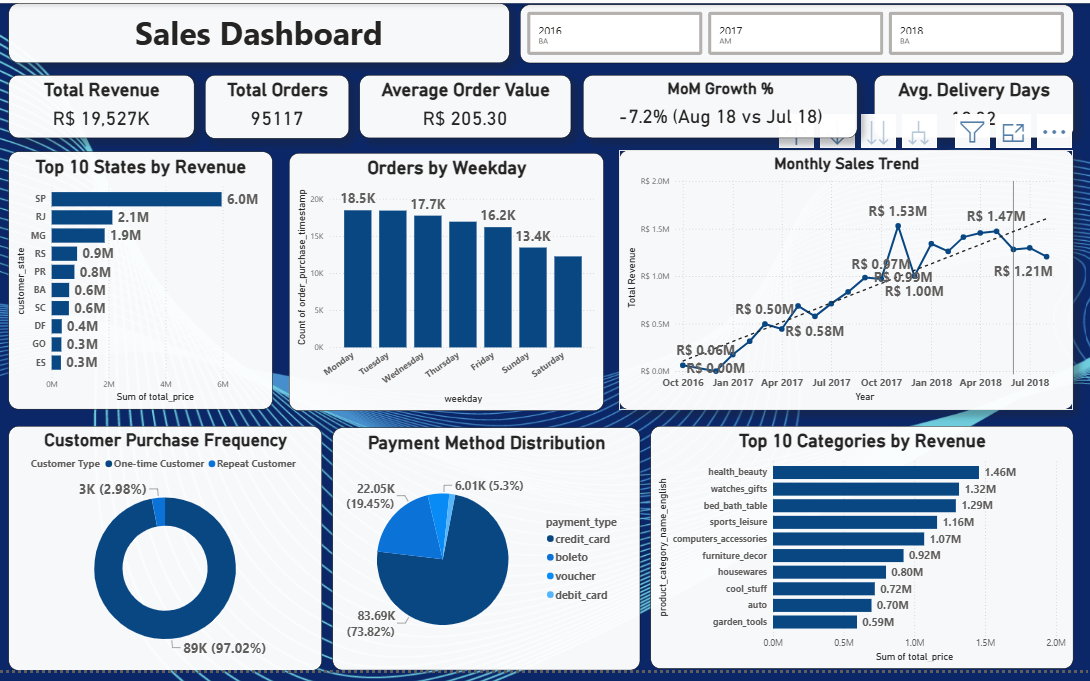

What the dashboard file says about the page in this screenshot:
{"tool":"powerbi","page":{"name":"Page 1","canvas":[1650,1000],"ordinal":0},"visuals":[{"type":"clusteredBarChart","title":"Top 10 Categories by Revenue","fields":{"Category":["Sheet1.product_category_name_english"],"Y":["Sum(Sheet1.total_price)"]},"box":[987.3,634.2,634.2,364.3],"z":0},{"type":"clusteredColumnChart","title":"Orders by Weekday","fields":{"Category":["Sheet1.weekday"],"Y":["CountNonNull(Sheet1.order_purchase_timestamp)"]},"box":[445.3,224.9,472.3,386.8],"z":1000},{"type":"textbox","box":[24.7,0,751.1,90],"z":2000},{"type":"card","title":"Total Revenue","fields":{"Values":["Sheet1.Total Revenue"]},"box":[24.7,107.9,278.9,94.5],"z":3000},{"type":"card","title":"Avg. Delivery Days","fields":{"Values":["Sheet1.Avg Delivery"]},"box":[1322.4,107.9,299.1,94.5],"z":4000},{"type":"card","title":"Total Orders","fields":{"Values":["Count(Sheet1.order_id)"]},"box":[319.3,107.9,216.2,95.3],"z":5000},{"type":"clusteredBarChart","title":"Top 10 States by Revenue","fields":{"Category":["Sheet1.customer_state"],"Y":["Sum(Sheet1.total_price)"]},"box":[24.7,222.6,395.8,386.8],"z":6000},{"type":"pieChart","title":"Payment Method Distribution","fields":{"Category":["Sheet1.payment_type"],"Y":["CountNonNull(Sheet1.payment_type)"]},"box":[510.5,636.4,461,364.3],"z":7000},{"type":"card","title":"Average Order Value","fields":{"Values":["Sheet1.AOV1"]},"box":[551,107.9,317.1,94.5],"z":9000},{"type":"advancedSlicerVisual","fields":{"Label":["Min(Sheet1.seller_state)"],"Values":["Calendar.Date.Variation.Date Hierarchy.Year"]},"box":[791.6,2.2,829.9,87.7],"z":10000},{"type":"lineChart","title":"Monthly Sales Trend","fields":{"Category":["Sheet1.month_year.Variation.Date Hierarchy.Year","Sheet1.month_year.Variation.Date Hierarchy.Month"],"Y":["Sheet1.Total Revenue"]},"box":[940.1,220.4,681.4,389.1],"z":11000},{"type":"card","title":"MoM Growth %","fields":{"Values":["Sheet1.MoM Growth Card"]},"box":[886.1,107.9,411.6,94.5],"z":12000},{"type":"donutChart","title":"Customer Purchase Frequency","fields":{"Category":["Sheet1.Customer Type"],"Y":["Sheet1.Customer Count"]},"box":[24.7,634.2,470,366.6],"z":12001}]}

Visuals, with their boxes in screenshot pixels (x1, y1, x2, y2), scaled from the page's 1650x1000 canvas onto the 1090x681 screenshot:
"Top 10 Categories by Revenue" clusteredBarChart: rect(652, 432, 1071, 680)
"Orders by Weekday" clusteredColumnChart: rect(294, 153, 606, 417)
textbox: rect(16, 0, 512, 61)
"Total Revenue" card: rect(16, 73, 201, 138)
"Avg. Delivery Days" card: rect(874, 73, 1071, 138)
"Total Orders" card: rect(211, 73, 354, 138)
"Top 10 States by Revenue" clusteredBarChart: rect(16, 152, 278, 415)
"Payment Method Distribution" pieChart: rect(337, 433, 642, 680)
"Average Order Value" card: rect(364, 73, 573, 138)
advancedSlicerVisual - Min(Sheet1.seller_state) x Calendar.Date.Variation.Date Hierarchy.Year: rect(523, 1, 1071, 61)
"Monthly Sales Trend" lineChart: rect(621, 150, 1071, 415)
"MoM Growth %" card: rect(585, 73, 857, 138)
"Customer Purchase Frequency" donutChart: rect(16, 432, 327, 680)
